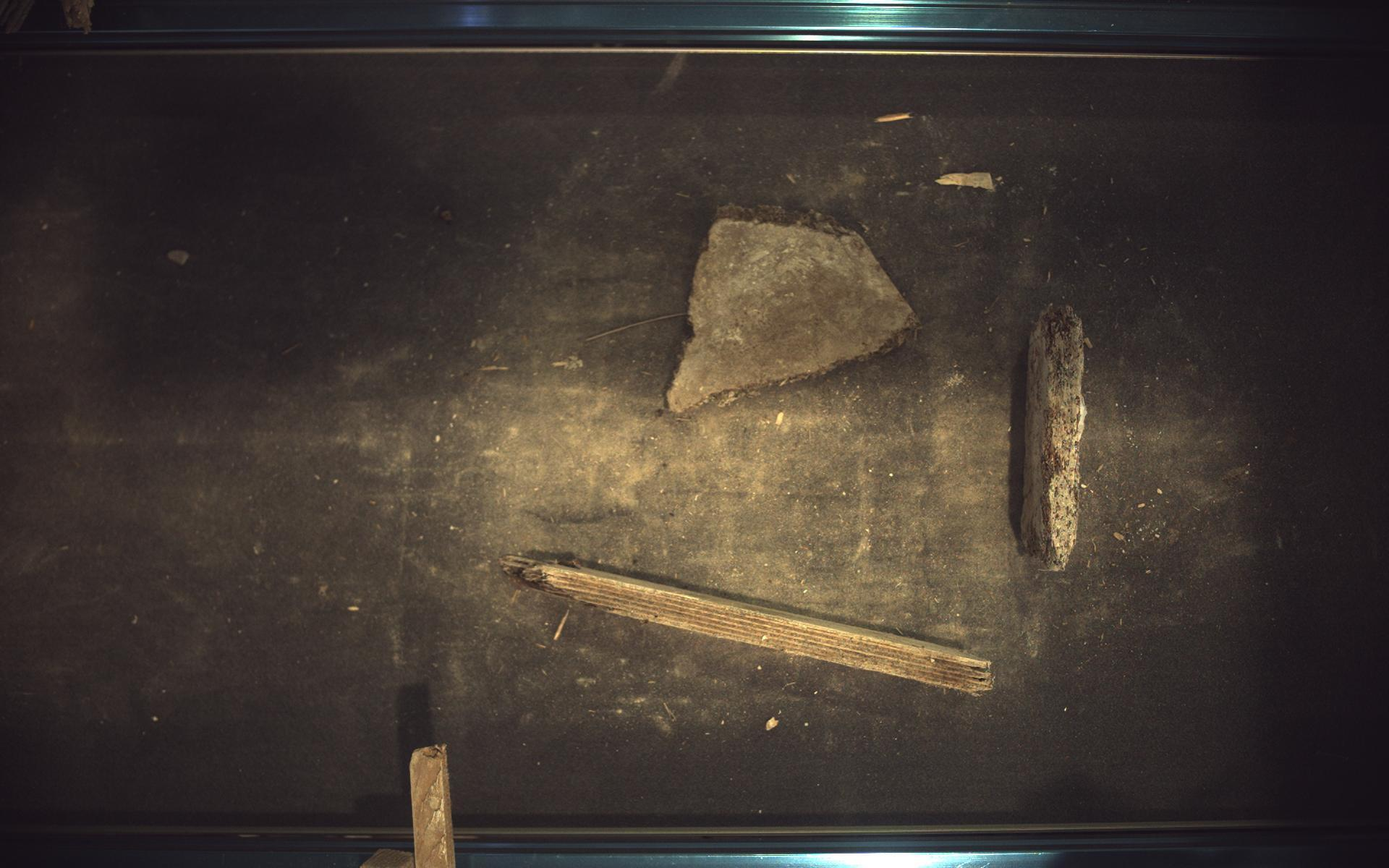wood: (501, 556, 994, 696), (1023, 305, 1089, 571)
